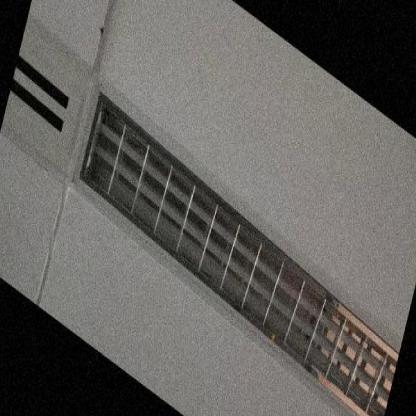light_off: (58, 53, 414, 415)
